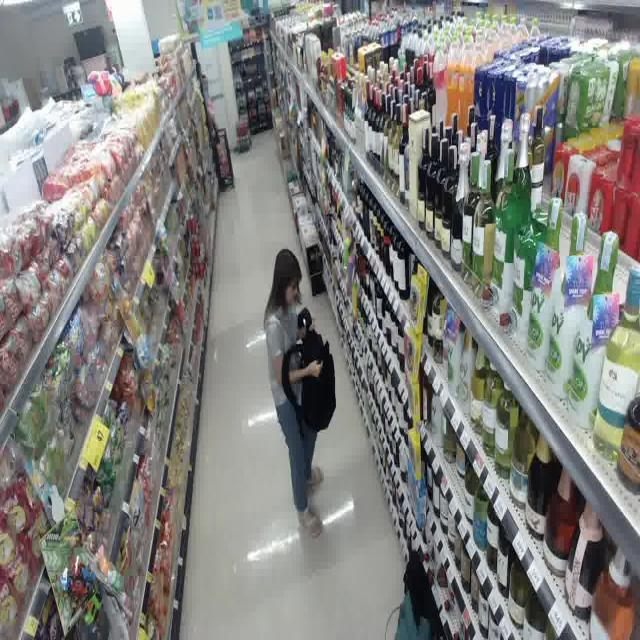Normal: (257, 233, 347, 548)
